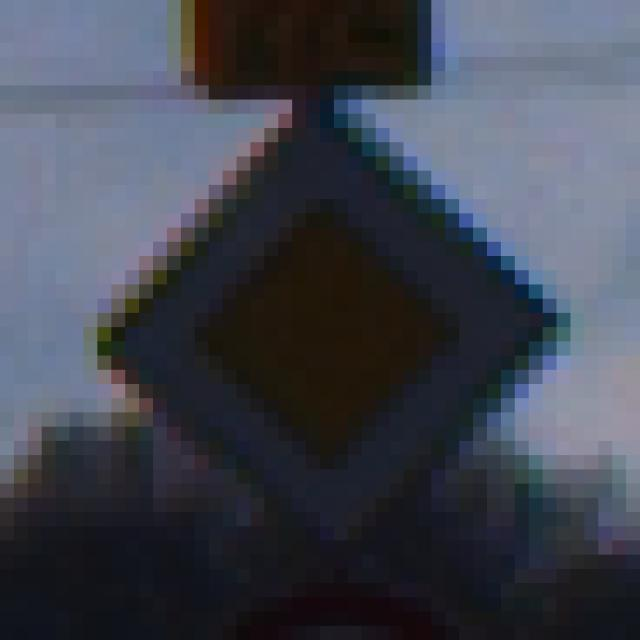Main Road: (71, 86, 572, 570)
